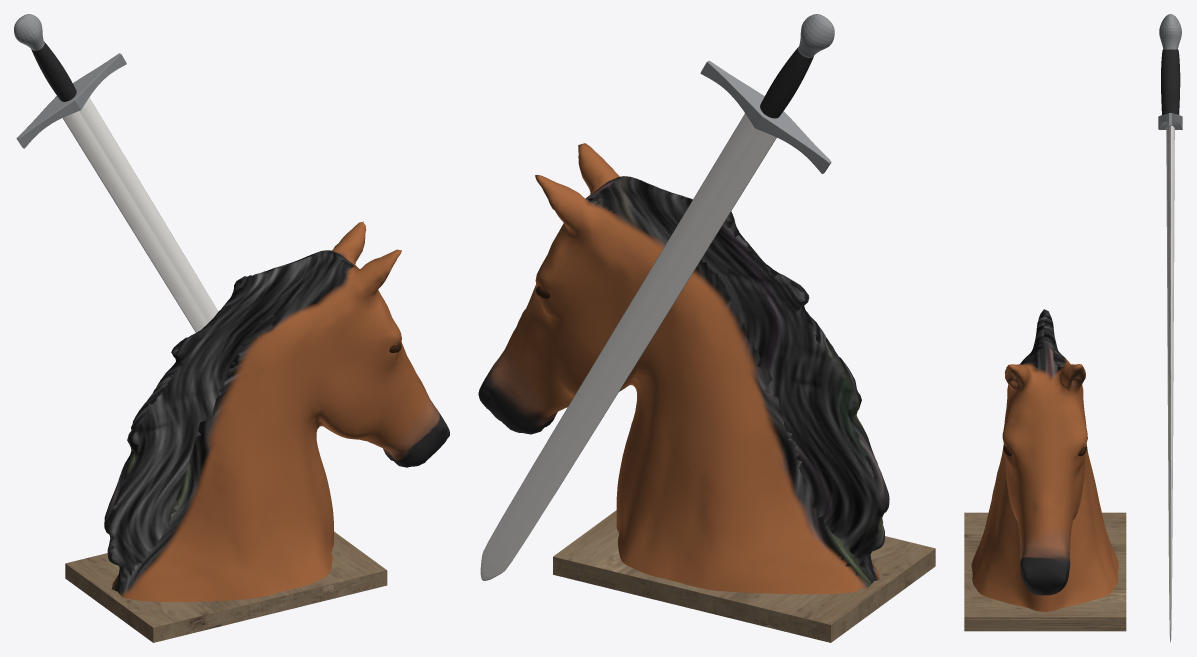
The model's file is Melee_Calvalry.fbx.
3 renders of one model, left to right at view 1: azimuth 30°, elevation 25°; view 2: azimuth 150°, elevation 25°; view 3: azimuth 270°, elevation 25°, orthographic. The views are drawn at different scales.
Parts seen in each view (by area): view 1: Melee Calvalry, Sword.003; view 2: Melee Calvalry, Sword.003; view 3: Melee Calvalry, Sword.003.
Boxes of the visible parts, x1,y1,x2,y2 form: Melee Calvalry: (65,221,449,642); Sword.003: (14,14,218,332); Melee Calvalry: (478,143,935,642); Sword.003: (480,14,834,580); Melee Calvalry: (964,309,1126,631); Sword.003: (1158,14,1182,642).
Size of the model in its own units: 336 by 493 by 193.
